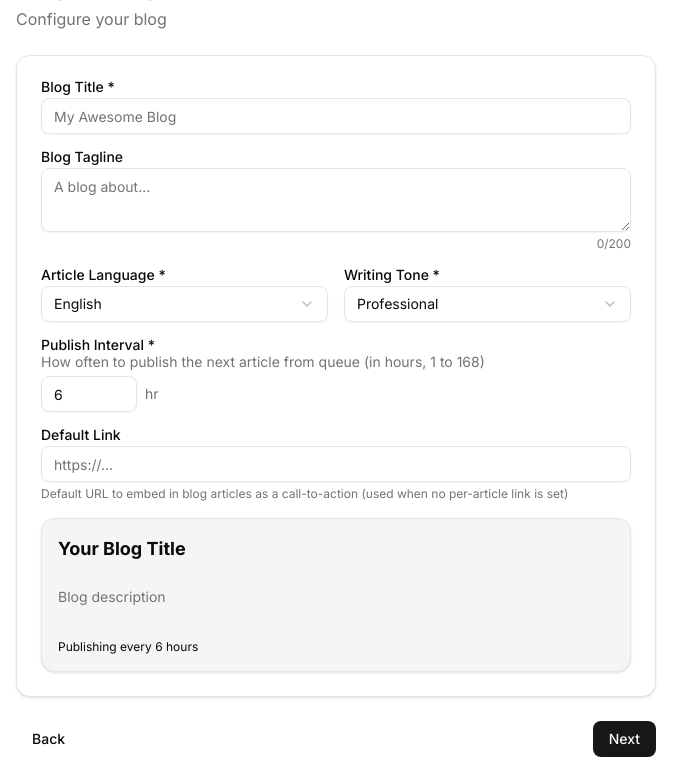
Test: Blog › shows error on API failure
(page scrolled)
Click the button "Next". click: (624, 739)
box: [593,721,656,757]
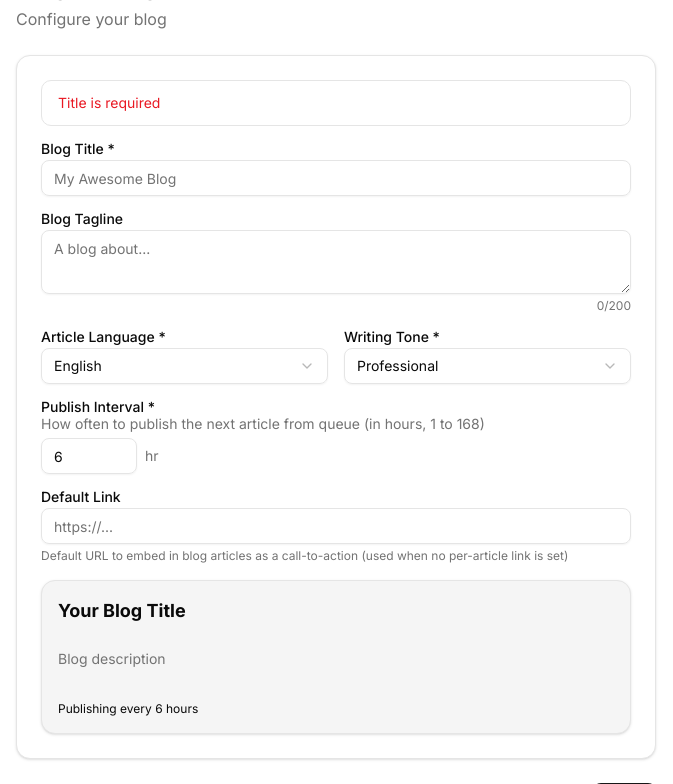
Expected: the text "Title is required" is shown, [58,94,160,111]
